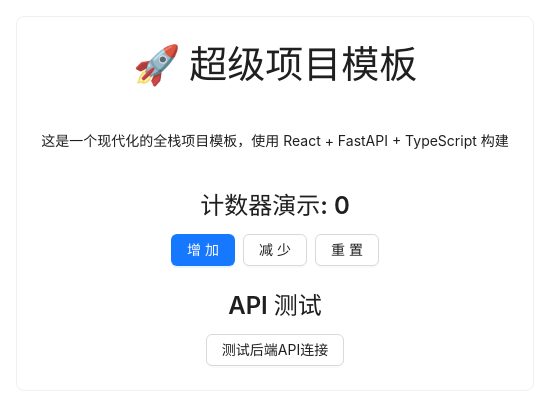
Scenario: App Component › 点击增加按钮应该增加计数器
# 使用更灵活的文本匹配 - Ant Design会在文字间插入空格
Click the button "增 加".
click(203, 250)  # box x1=171 y1=234 x2=235 y2=266
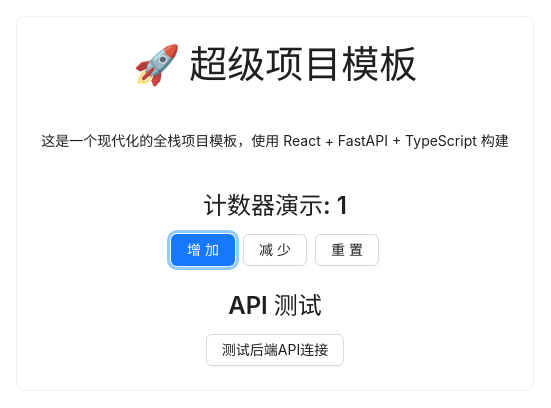
Result: the heading "计数器演示: 1" is shown at x1=203 y1=191 x2=347 y2=220
